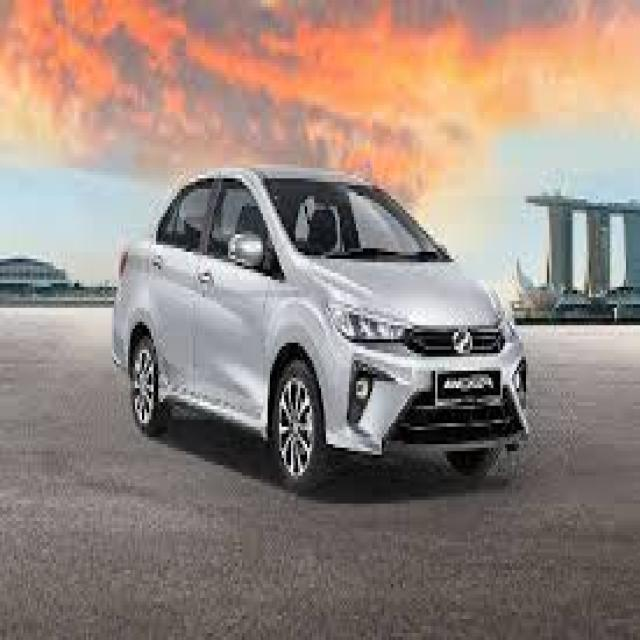PeroduaBezza: (110, 161, 530, 489)
